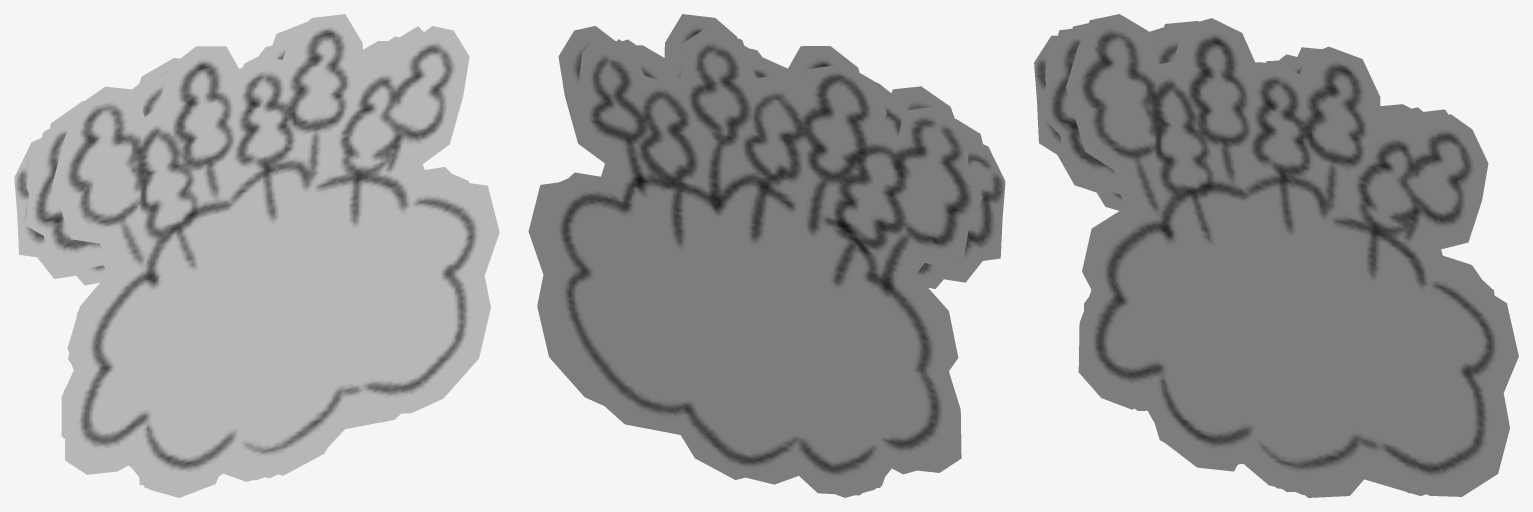
The model's file is FlowerBush.fbx.
3 views of the same model, side by side, from view 1: azimuth 30°, elevation 25°; view 2: azimuth 150°, elevation 25°; view 3: azimuth 330°, elevation 25° (orthographic).
Parts seen in each view (by area): view 1: FlowerBush5, FlowerBush4, FlowerBush2, FlowerBush1, FlowerBush3; view 2: FlowerBush1, FlowerBush5, FlowerBush2, FlowerBush3; view 3: FlowerBush5, FlowerBush4, FlowerBush2, FlowerBush1, FlowerBush3.
Part boxes in pixels (left/top/right/bottom): FlowerBush5: left=52, top=14, right=499, bottom=492; FlowerBush4: left=25, top=37, right=410, bottom=497; FlowerBush2: left=14, top=40, right=468, bottom=485; FlowerBush1: left=50, top=22, right=451, bottom=475; FlowerBush3: left=27, top=36, right=411, bottom=480; FlowerBush1: left=540, top=26, right=982, bottom=495; FlowerBush5: left=528, top=14, right=961, bottom=486; FlowerBush2: left=552, top=45, right=1005, bottom=488; FlowerBush3: left=561, top=39, right=982, bottom=477; FlowerBush5: left=1066, top=14, right=1518, bottom=496; FlowerBush4: left=1041, top=27, right=1430, bottom=494; FlowerBush2: left=1034, top=35, right=1494, bottom=493; FlowerBush1: left=1072, top=21, right=1481, bottom=497; FlowerBush3: left=1045, top=27, right=1431, bottom=493.
Bounding box in the file's own units: 37.22 × 33.56 × 0.5713.
Materials: 1 (1 with a texture image).
